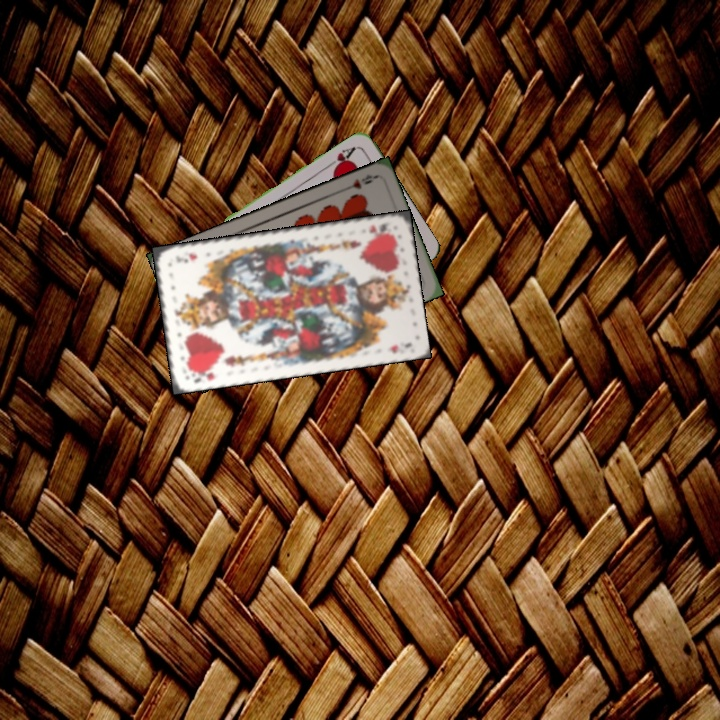H9: (339, 170, 379, 193)
HA: (323, 143, 358, 174)
HK: (185, 364, 218, 385), (365, 219, 391, 236)
